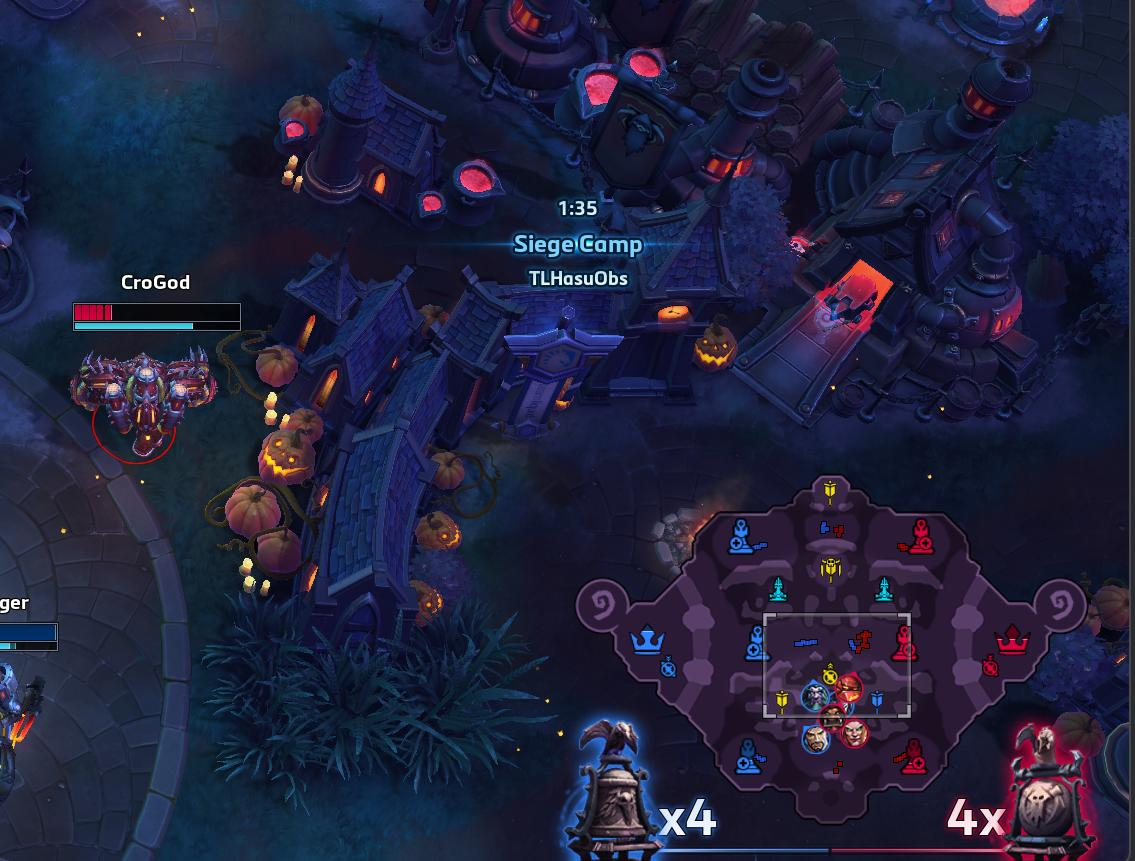blue nexus: (626, 614, 668, 661), (630, 624, 664, 654)
blue player: (795, 678, 832, 716), (799, 724, 833, 754), (800, 680, 831, 712), (801, 725, 830, 753)
blue tower: (719, 507, 762, 564), (737, 622, 777, 674), (726, 733, 768, 781), (728, 518, 767, 554), (735, 738, 766, 774), (745, 625, 763, 660)
red nexus: (988, 614, 1039, 666), (995, 624, 1030, 654)
red player: (838, 719, 876, 749), (817, 704, 852, 734), (835, 673, 865, 705), (834, 671, 863, 703), (840, 718, 869, 748), (820, 703, 845, 731)
red tower: (900, 513, 944, 564), (894, 736, 932, 783), (888, 621, 924, 668), (898, 518, 933, 554), (891, 624, 916, 661), (901, 739, 926, 774)
